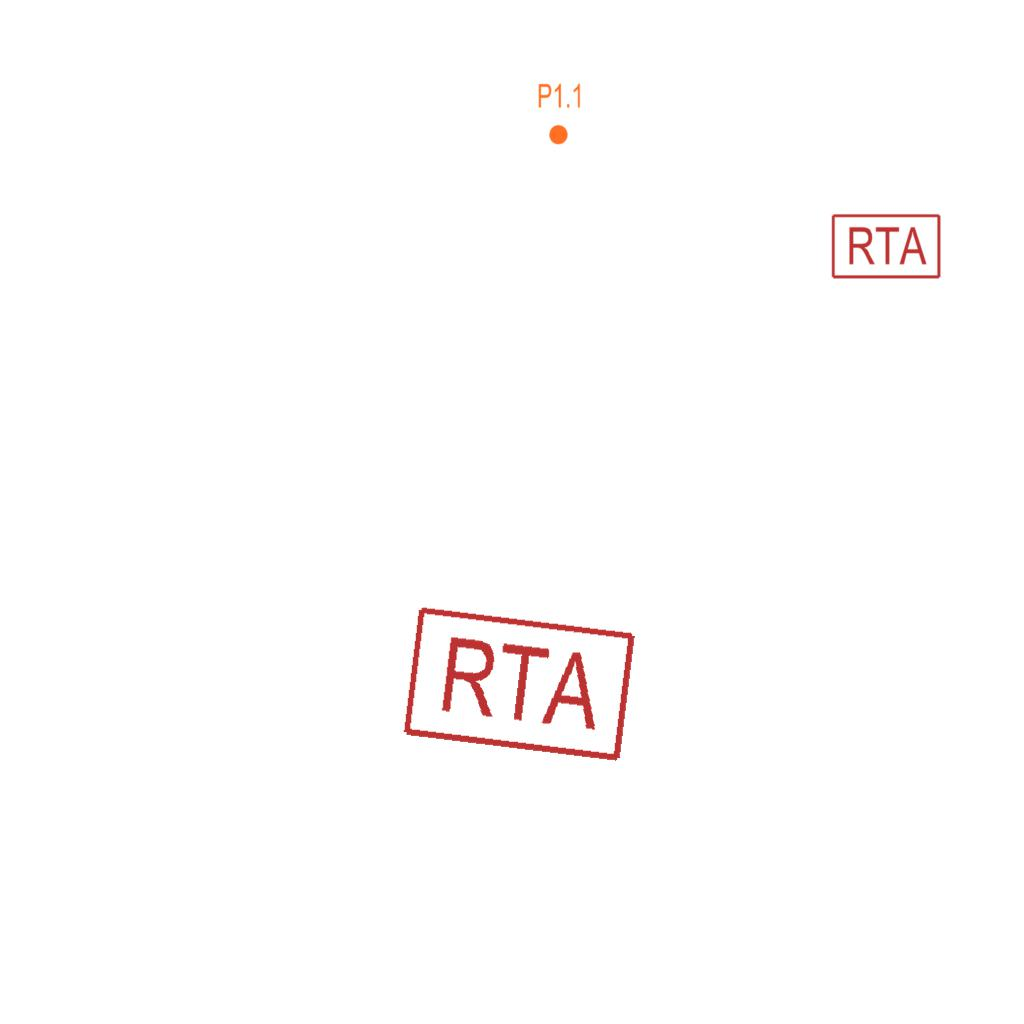Downlight_LED_Einbauleuchten_Flur_2: (537, 82, 583, 146)
Ruf-und_Abstelltaster: (395, 601, 639, 767), (828, 212, 942, 281)
